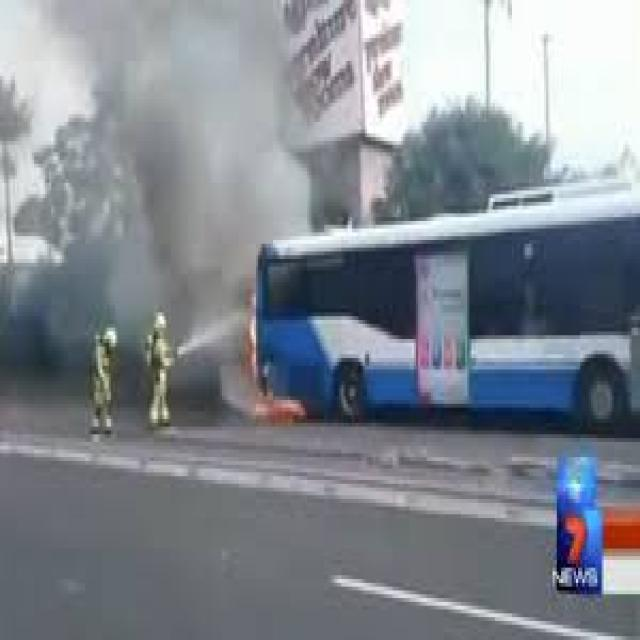Fire: (257, 390, 305, 418)
Smoke: (0, 0, 319, 376)
